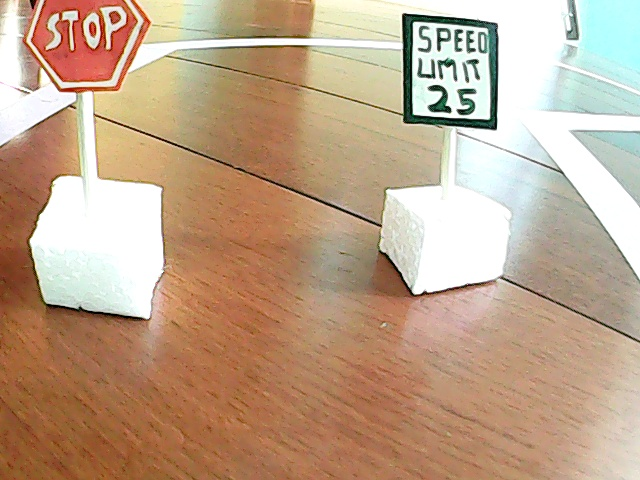speed_25: (378, 13, 529, 288)
stop: (11, 1, 199, 320)
